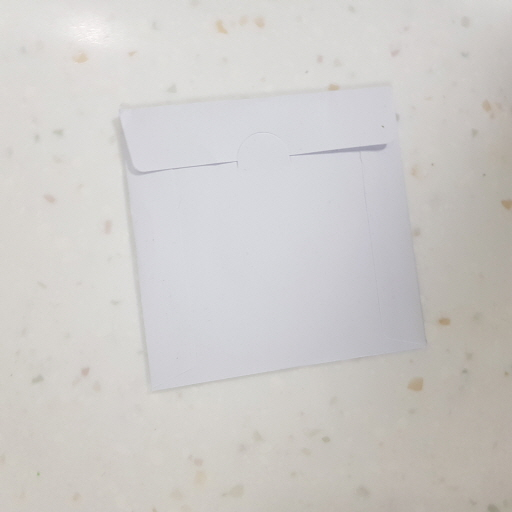Paper_2: (110, 83, 450, 400)
